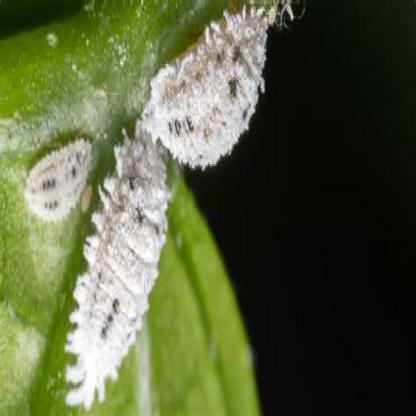mealy bug: (67, 131, 169, 407), (144, 8, 274, 174), (21, 144, 92, 223)
